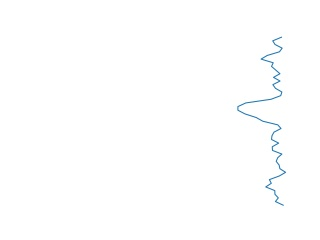interdistributaryEstuary: (234, 36, 291, 207)
